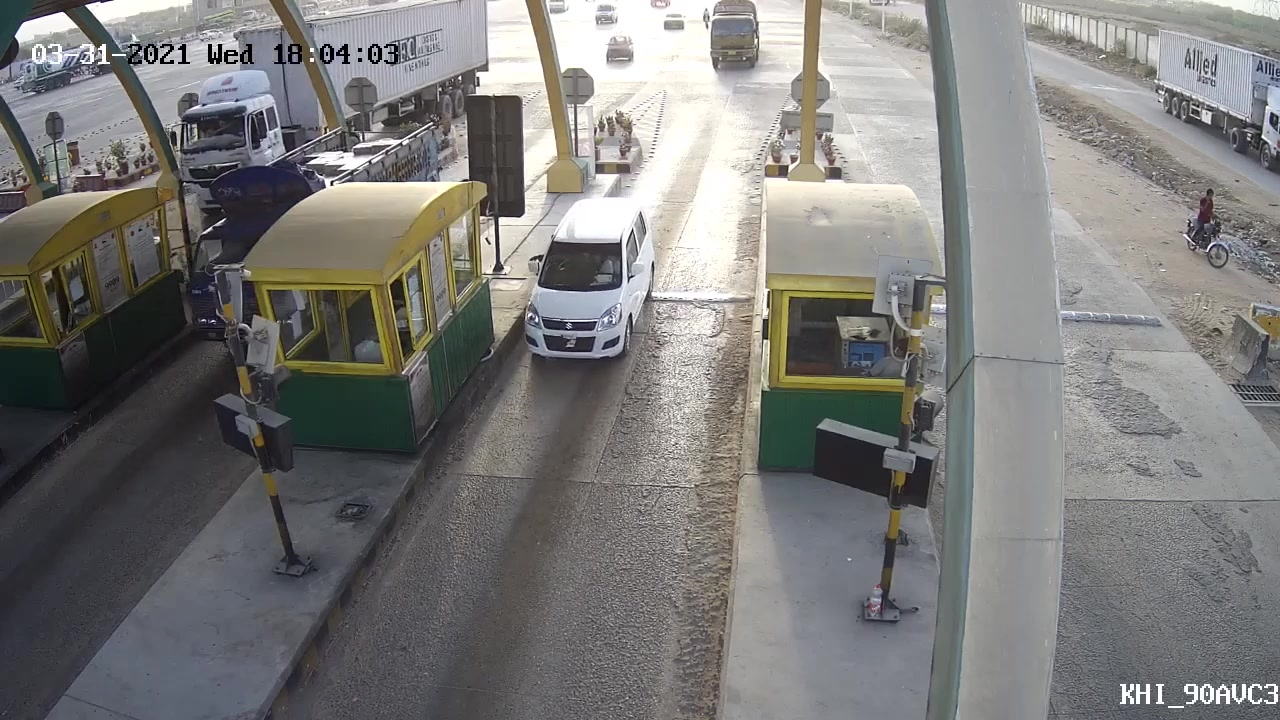F1: (505, 196, 666, 369)
